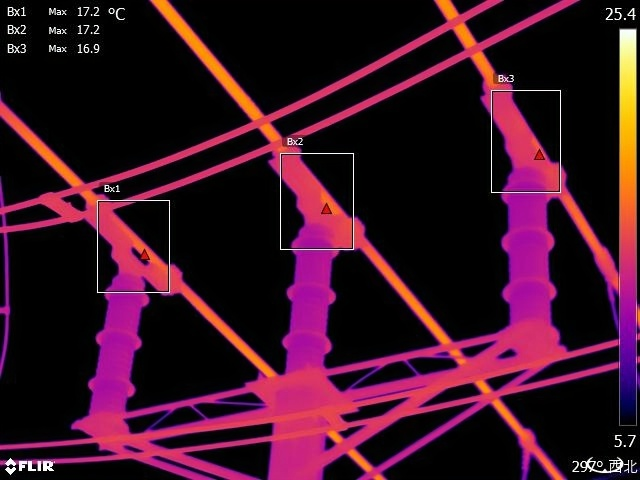clamp: (504, 418, 545, 471)
post insulator: (81, 262, 155, 421), (274, 210, 342, 365), (494, 176, 566, 321)
